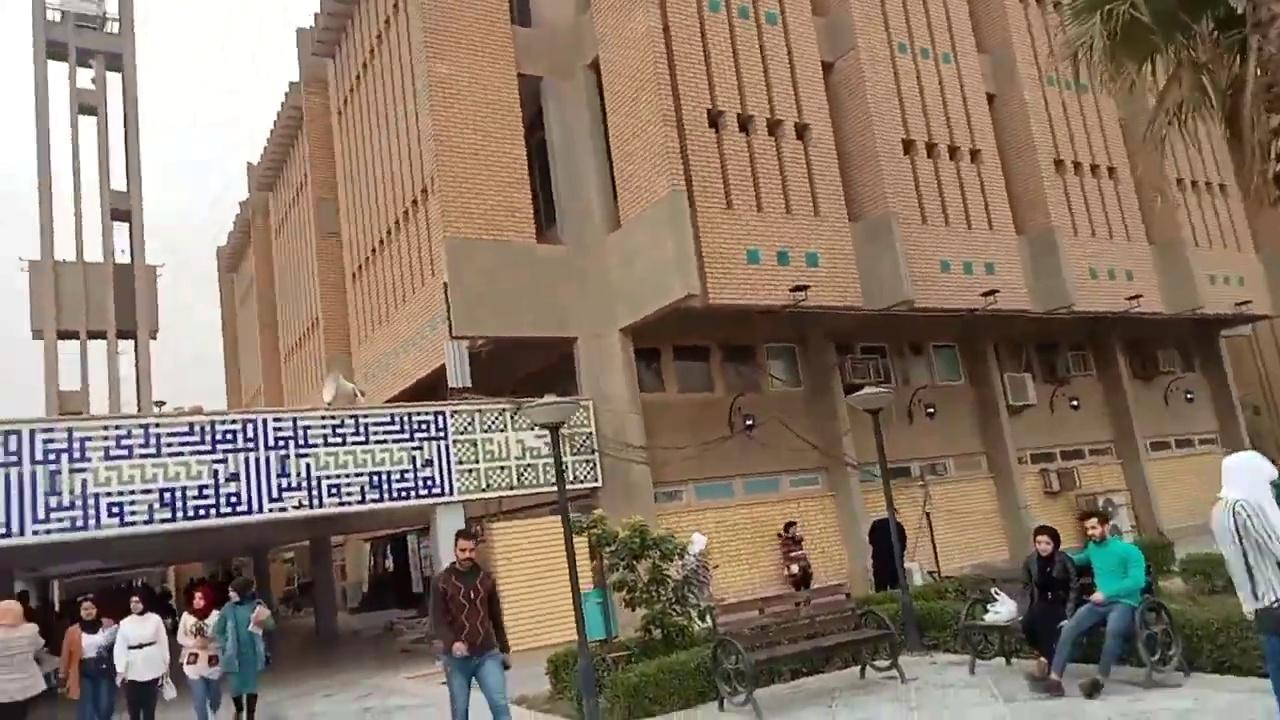person: (1043, 510, 1146, 699), (1209, 448, 1279, 716), (427, 528, 512, 719), (1019, 524, 1079, 680), (212, 575, 275, 719), (58, 596, 120, 719), (112, 589, 170, 719), (0, 598, 61, 719), (175, 581, 223, 719), (867, 507, 907, 593), (678, 531, 715, 603), (777, 519, 813, 592)
tree: (1048, 0, 1279, 210), (520, 394, 603, 718), (842, 382, 924, 654), (571, 506, 715, 654)
